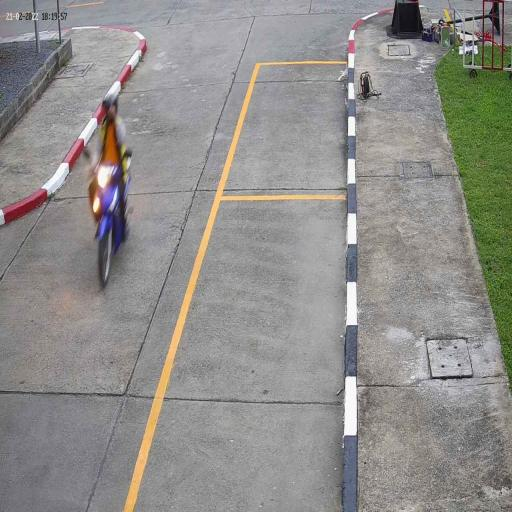motorcycle: (95, 162, 131, 290)
